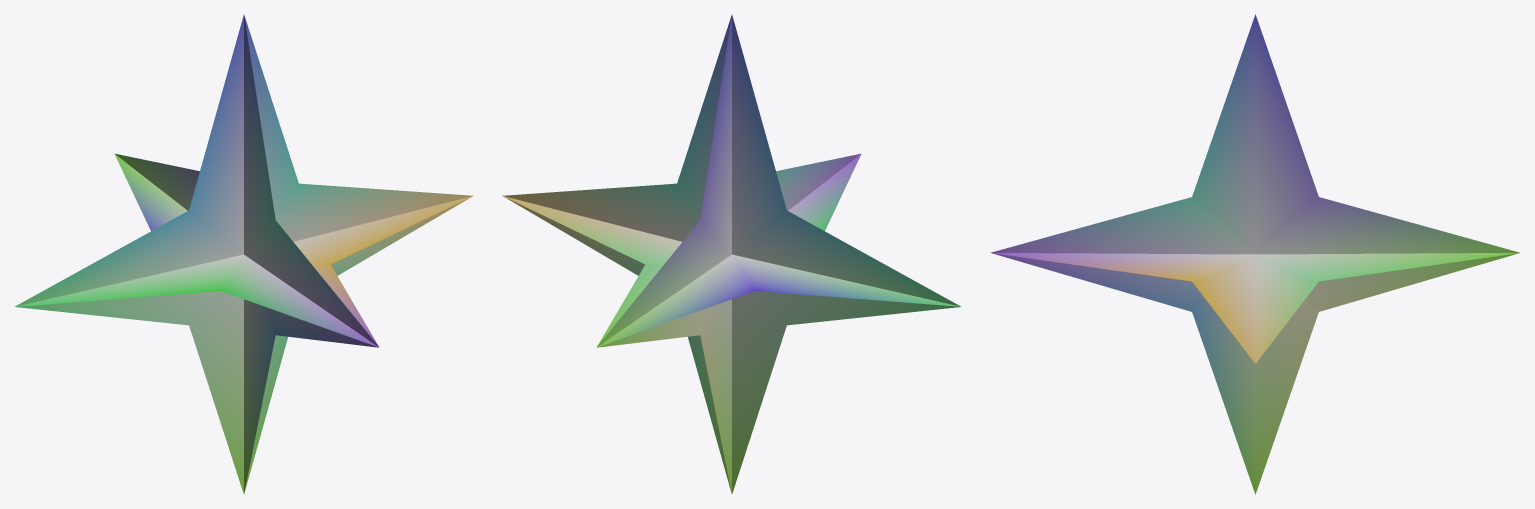
The model's file is space-stars-star_v6.glb.
The picture shows the model from 3 angles, left to right: view 1: azimuth 30°, elevation 25°; view 2: azimuth 150°, elevation 25°; view 3: azimuth 270°, elevation 25°; orthographic projection.
Visible parts, largest first — view 1: Star_v6; view 2: Star_v6; view 3: Star_v6.
Part boxes in pixels (x1=…): Star_v6: x1=14, y1=15, x2=473, y2=493; Star_v6: x1=502, y1=15, x2=961, y2=493; Star_v6: x1=990, y1=14, x2=1520, y2=494.
Bounding box in the file's own units: 0.5 × 0.5 × 0.5.
